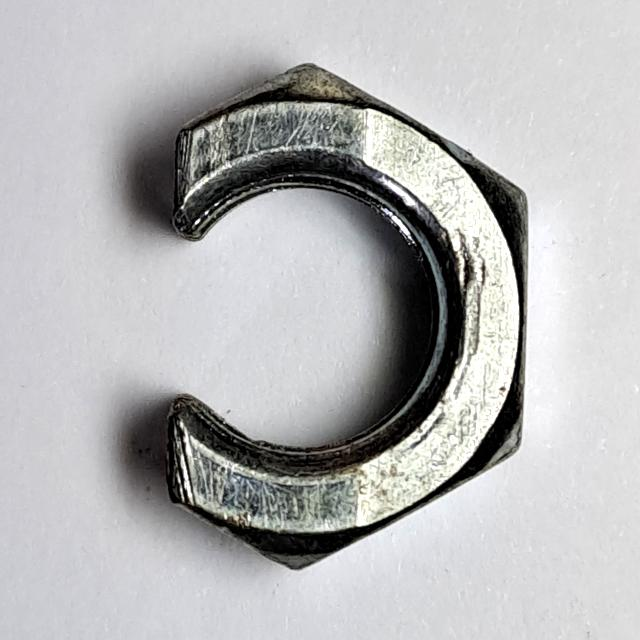Fracture: (155, 49, 548, 584)
